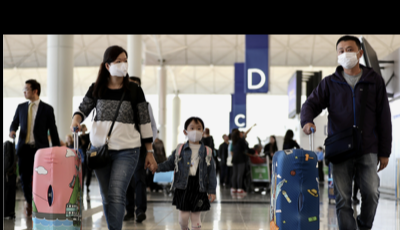with_mask: (338, 44, 360, 70), (110, 55, 129, 78), (188, 123, 204, 142)
without_mask: (23, 85, 33, 98)
